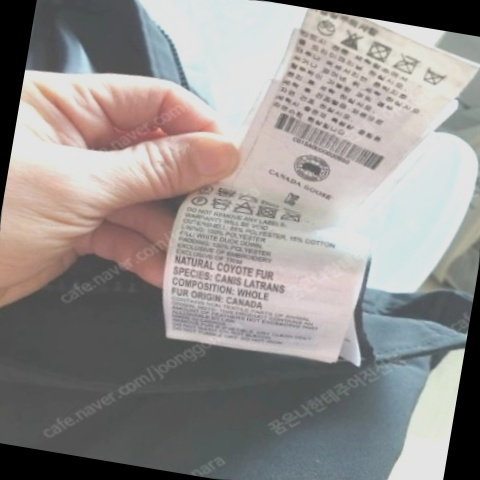DN_bleach: (338, 27, 365, 53), (232, 198, 258, 220)
DN_iron: (393, 49, 423, 79), (279, 206, 305, 227)
DN_tumble_dry: (364, 37, 398, 66), (254, 201, 281, 223)
DN_wash: (421, 63, 451, 89), (208, 195, 234, 214), (215, 183, 239, 203)
dry_clean: (313, 14, 340, 40)
dry_clean_any_solvent_except_trichloroethylene: (189, 193, 211, 209), (197, 180, 214, 197)
